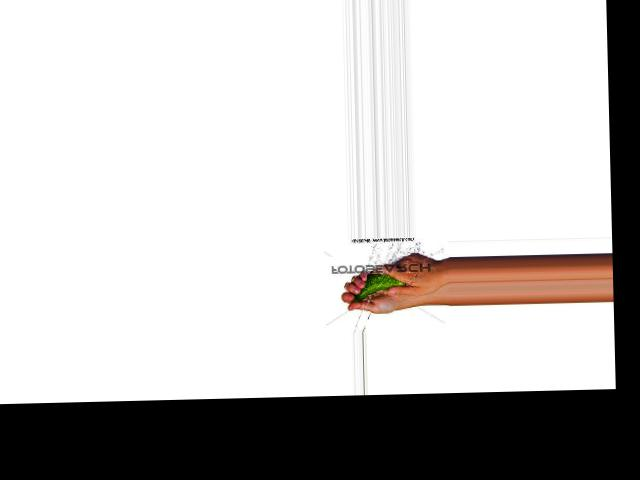cucumber: (351, 271, 408, 302)
